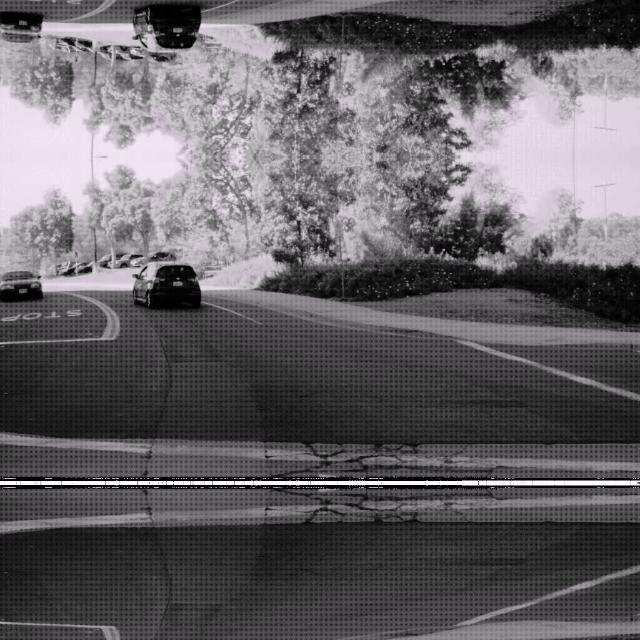pedestrianCrossing: (67, 246, 83, 262), (67, 50, 83, 66)
